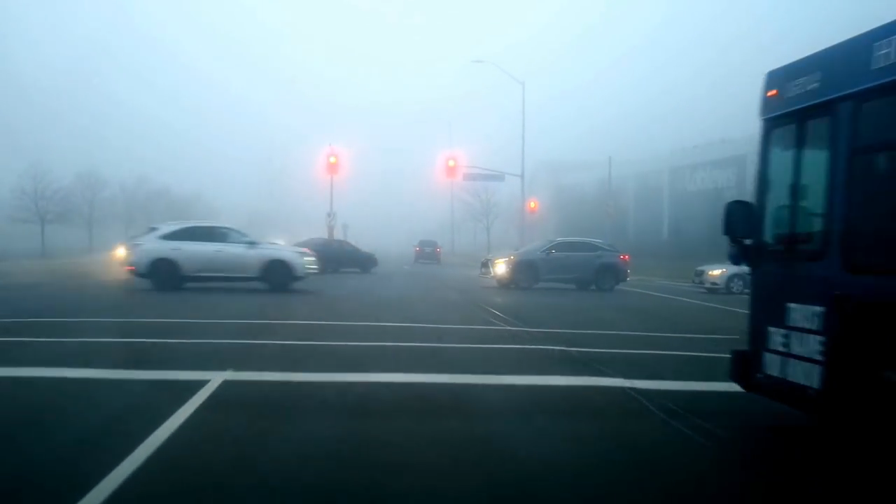bus: (718, 11, 896, 487)
car: (123, 219, 320, 290), (479, 236, 630, 294), (280, 235, 380, 275), (691, 251, 754, 295), (411, 236, 444, 266)
